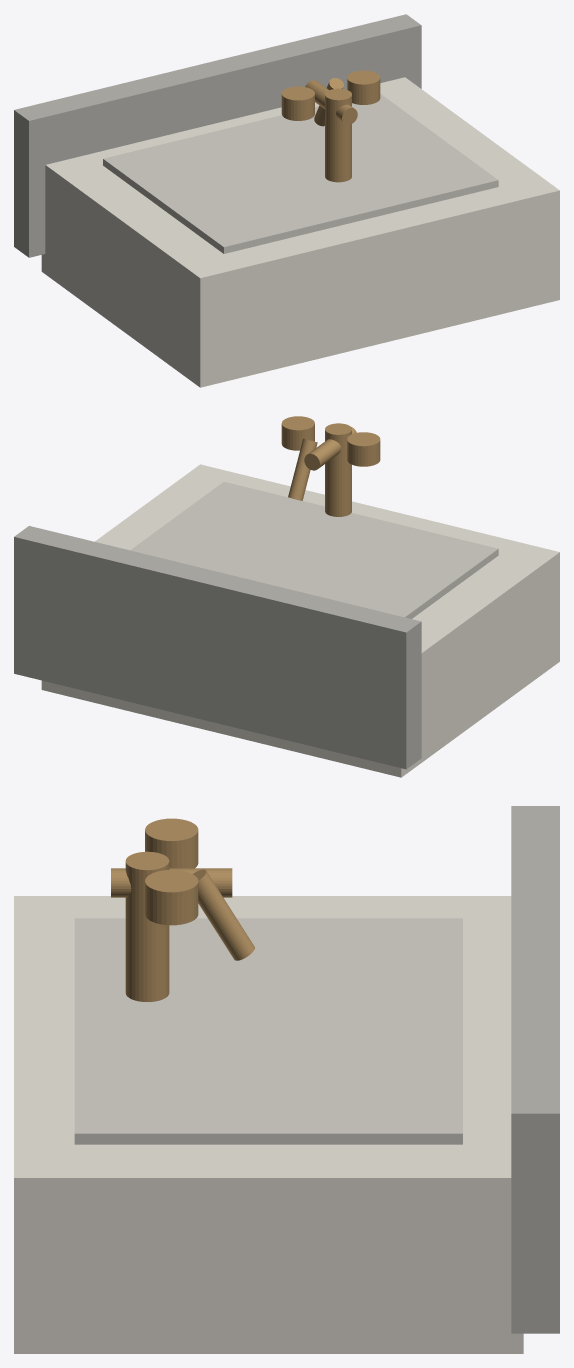
Rendered from prop_sink.fbx.
The picture shows the model from 3 angles, top to bottom: view 1: azimuth 30°, elevation 25°; view 2: azimuth 150°, elevation 25°; view 3: azimuth 270°, elevation 25°; orthographic projection. The views are drawn at different scales.
Parts seen in each view (by area): view 1: Sink_Body, Sink_Bowl, Sink_Wall_Mount, Sink_Faucet_V, Cylinder, Cylinder.001, Sink_Faucet_H; view 2: Sink_Wall_Mount, Sink_Body, Sink_Bowl, Sink_Faucet_V, Cylinder, Cylinder.001, Sink_Faucet_Spout, Sink_Faucet_H; view 3: Sink_Body, Sink_Bowl, Sink_Wall_Mount, Sink_Faucet_V, Cylinder.001, Cylinder, Sink_Faucet_Spout, Sink_Faucet_H.
Boxes of the visible parts, left/top/right/bottom form: Sink_Body: left=41, top=77, right=559, bottom=387; Sink_Bowl: left=103, top=94, right=498, bottom=253; Sink_Wall_Mount: left=14, top=14, right=421, bottom=257; Sink_Faucet_V: left=325, top=88, right=351, bottom=182; Cylinder: left=281, top=86, right=314, bottom=120; Cylinder.001: left=347, top=70, right=380, bottom=104; Sink_Faucet_H: left=305, top=80, right=357, bottom=124; Sink_Wall_Mount: left=14, top=526, right=421, bottom=769; Sink_Body: left=41, top=464, right=559, bottom=777; Sink_Bowl: left=130, top=482, right=498, bottom=618; Sink_Faucet_V: left=325, top=423, right=351, bottom=516; Cylinder: left=347, top=432, right=380, bottom=466; Cylinder.001: left=281, top=416, right=314, bottom=450; Sink_Faucet_Spout: left=288, top=438, right=317, bottom=500; Sink_Faucet_H: left=304, top=427, right=356, bottom=470; Sink_Body: left=14, top=896, right=523, bottom=1353; Sink_Bowl: left=74, top=918, right=462, bottom=1144; Sink_Wall_Mount: left=511, top=806, right=559, bottom=1333; Sink_Faucet_V: left=125, top=851, right=169, bottom=1001; Cylinder.001: left=145, top=870, right=198, bottom=925; Cylinder: left=145, top=818, right=198, bottom=868; Sink_Faucet_Spout: left=193, top=869, right=254, bottom=960; Sink_Faucet_H: left=111, top=868, right=232, bottom=897.
Bounding box in the file's own units: 60 × 32.5 × 45.
